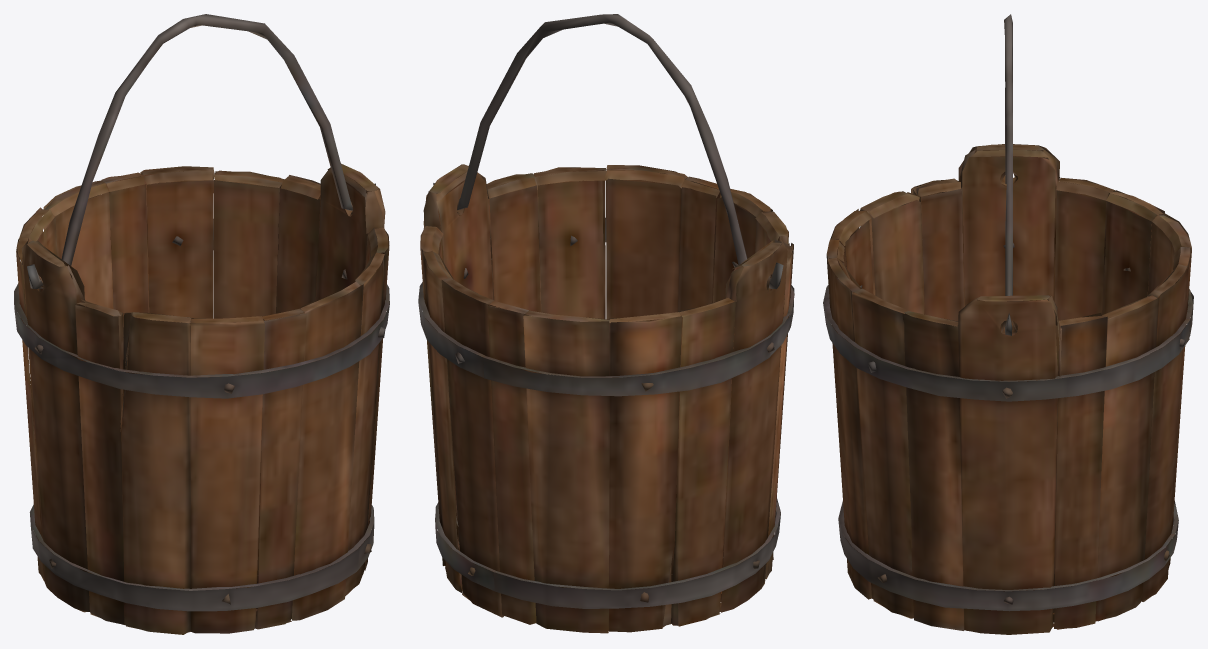
Rendered from bucket.glb.
3 views of the same model, side by side, from view 1: azimuth 30°, elevation 25°; view 2: azimuth 150°, elevation 25°; view 3: azimuth 270°, elevation 25° (orthographic).
Parts seen in each view (by area): view 1: wooden_bucket_01; view 2: wooden_bucket_01; view 3: wooden_bucket_01.
Part boxes in pixels (x1=…): wooden_bucket_01: x1=14, y1=14, x2=389, y2=634; wooden_bucket_01: x1=418, y1=14, x2=794, y2=633; wooden_bucket_01: x1=823, y1=14, x2=1193, y2=634.
Size of the model in its own units: 0.3661 by 0.5521 by 0.3417.
1 material, 1 textured.
